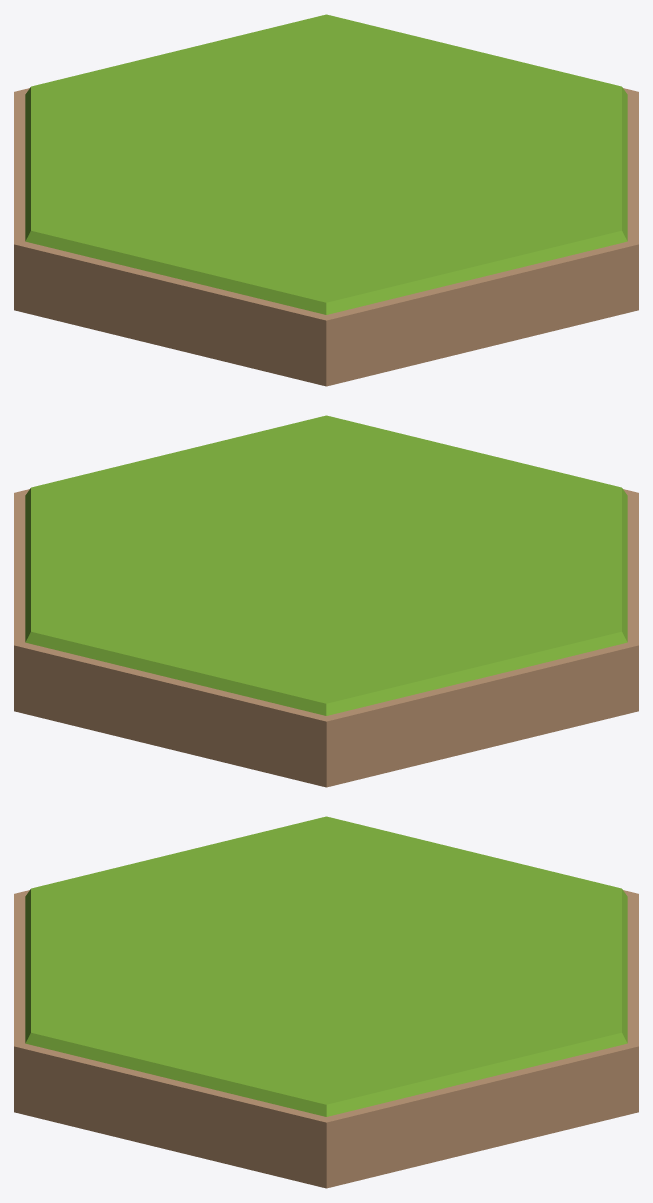
Rendered from baseHexagon.fbx.
The picture shows the model from 3 angles, top to bottom: view 1: azimuth 30°, elevation 25°; view 2: azimuth 150°, elevation 25°; view 3: azimuth 270°, elevation 25°; orthographic projection.
Visible parts, largest first — view 1: base; view 2: base; view 3: base.
Part boxes in pixels (<box>): base: <box>14,14,638,386</box>; base: <box>14,415,638,787</box>; base: <box>14,816,638,1188</box>.
Bounding box in the file's own units: 1364 × 157 × 1181.
